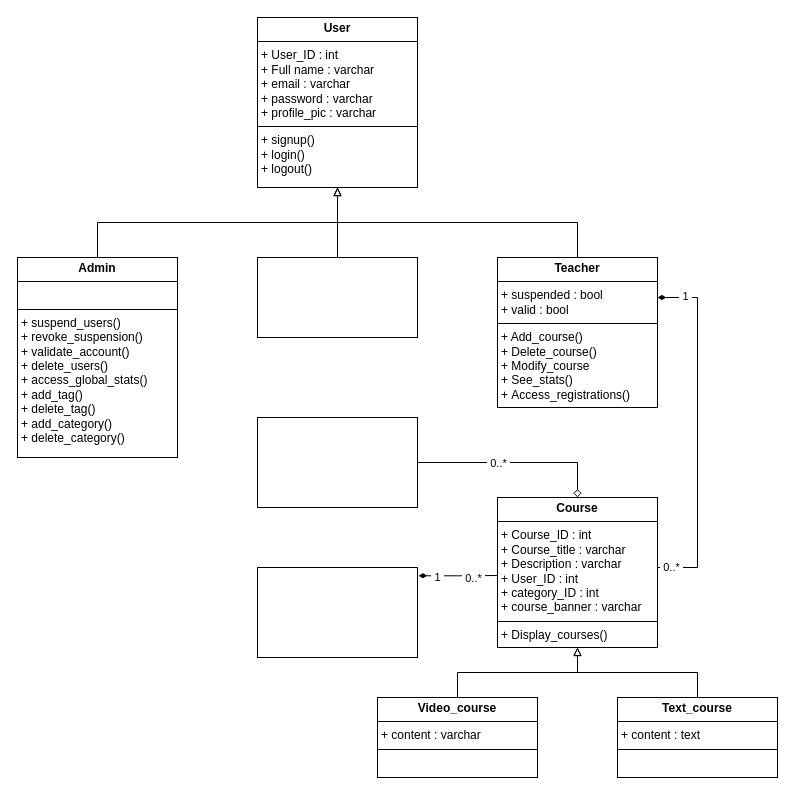
Some shapes in this 795 by 795 pixel diagram are drawn without their labels. Here are the shapes that lost their labels. From the top down, the centre of each, then its label:
pixel 337 297: Student + Suspended : bool + Folow_course()
pixel 337 462: Tag + tag_ID : int + tag_title : varchar
pixel 337 612: category + category_ID : int + category_title : varchar
